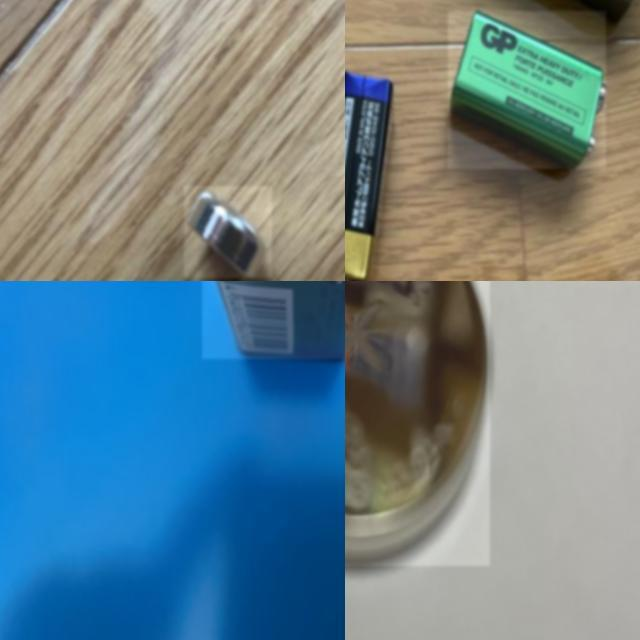9V: (448, 11, 606, 169), (202, 281, 345, 359), (345, 71, 393, 281)
